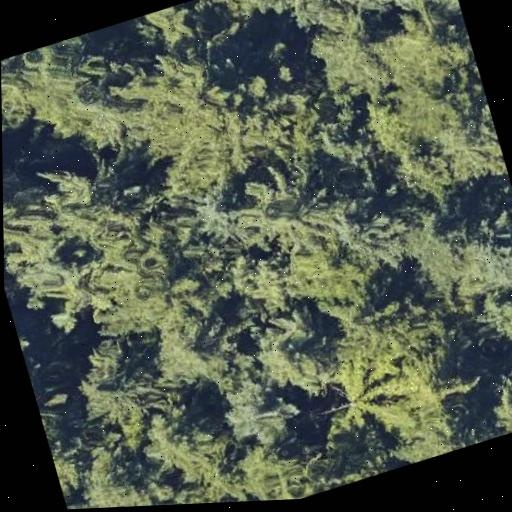tree-top: (113, 29, 288, 209), (399, 184, 512, 311), (44, 144, 154, 258), (67, 325, 166, 440), (298, 4, 399, 113), (310, 348, 413, 453), (136, 393, 236, 497), (140, 300, 244, 400), (230, 157, 328, 260), (250, 302, 342, 408), (322, 174, 422, 271), (375, 3, 471, 100), (211, 369, 302, 459), (421, 95, 507, 190), (76, 439, 167, 509), (40, 403, 94, 506), (126, 0, 212, 59), (468, 277, 512, 357), (1, 51, 42, 133), (477, 351, 512, 437), (346, 0, 438, 28)
